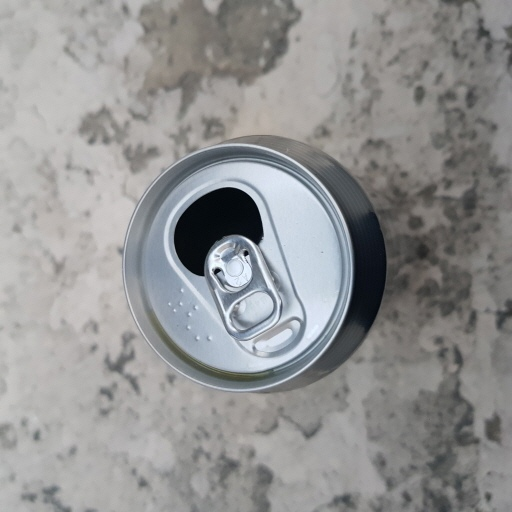Metal_0: (114, 136, 388, 392)
